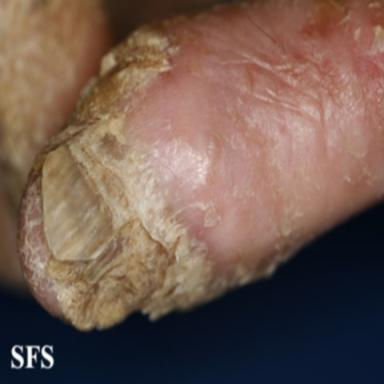Darier_s-Disease: (15, 17, 310, 329)
